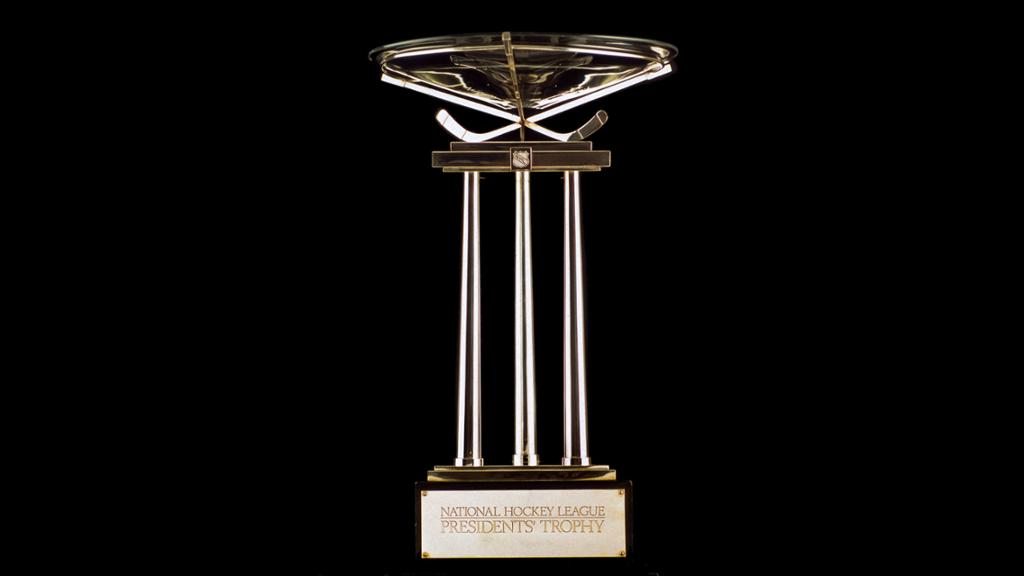trophy: (369, 19, 684, 561)
